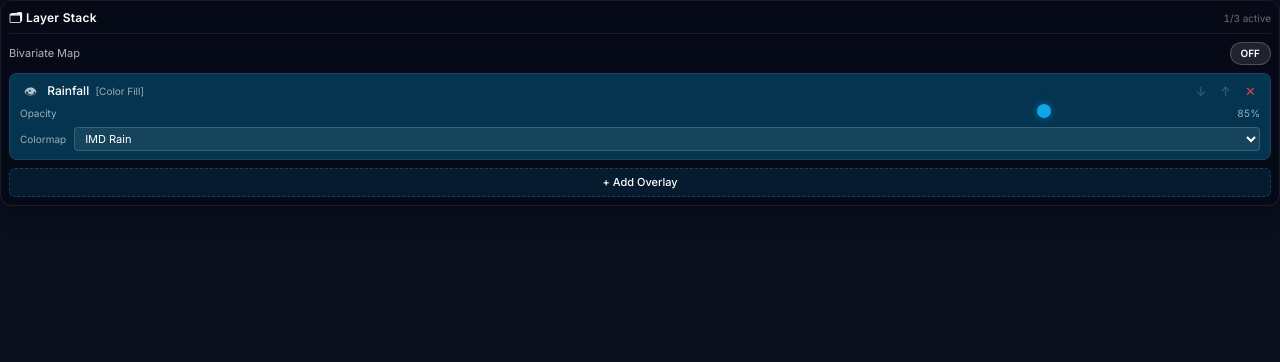
Test case: LayerStackPanel › shows bivariate config when toggle is clicked
The width and height of the screenshot is (1280, 362).
Click the switch named "bivariate map mode" at (1250, 54), box left=1230, top=42, right=1271, bottom=65
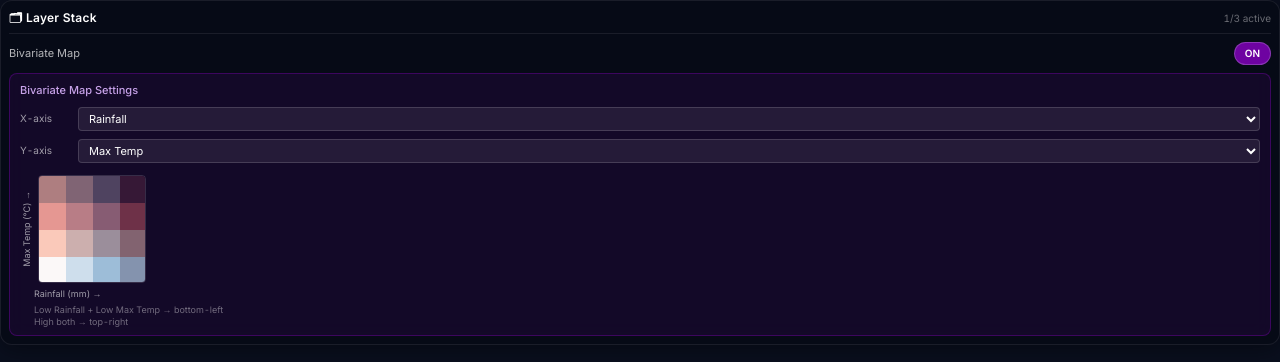
expect the text "Bivariate Map Settings" is shown: met, box left=20, top=83, right=138, bottom=97
